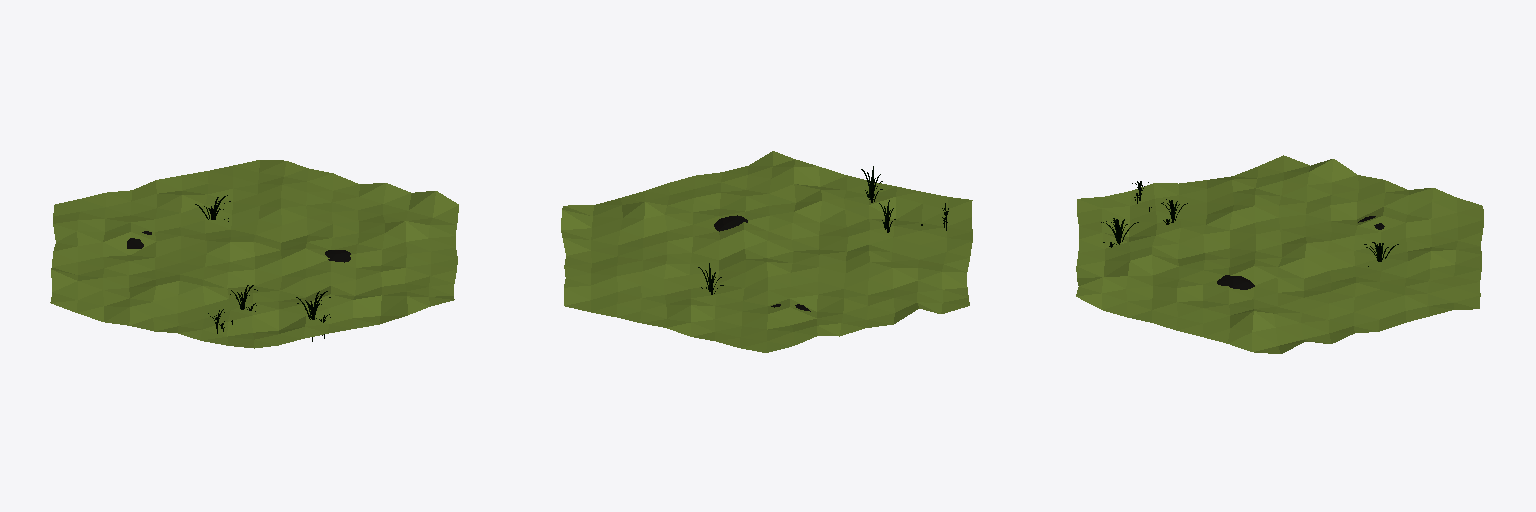
The model's file is plaine3.obj.
The picture shows the model from 3 angles: view 1: azimuth 30°, elevation 25°; view 2: azimuth 150°, elevation 25°; view 3: azimuth 270°, elevation 25°; orthographic projection.
Parts seen in each view (by area): view 1: Circle; view 2: Circle; view 3: Circle.
Boxes of the visible parts, x1,y1,x2,y2 form: Circle: [50, 160, 458, 348]; Circle: [561, 151, 972, 352]; Circle: [1076, 155, 1483, 353].
Bounding box in the file's own units: 2.02 × 0.2705 × 1.75.